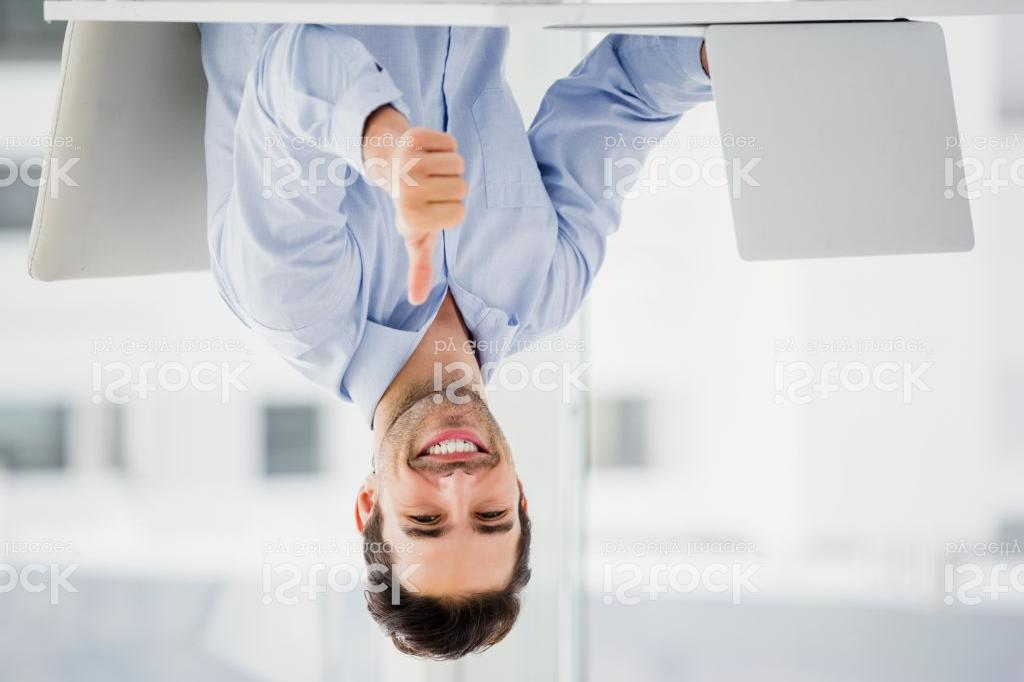thumbsdown: (392, 127, 470, 310)
